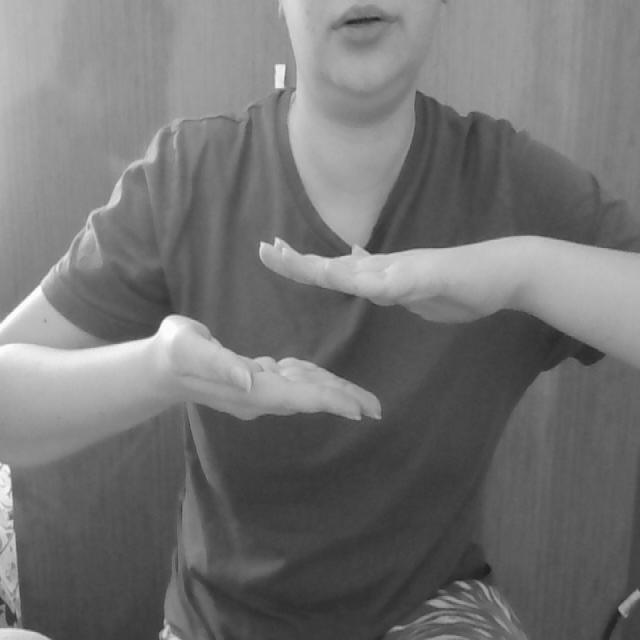Arkadas: (14, 226, 640, 427)
